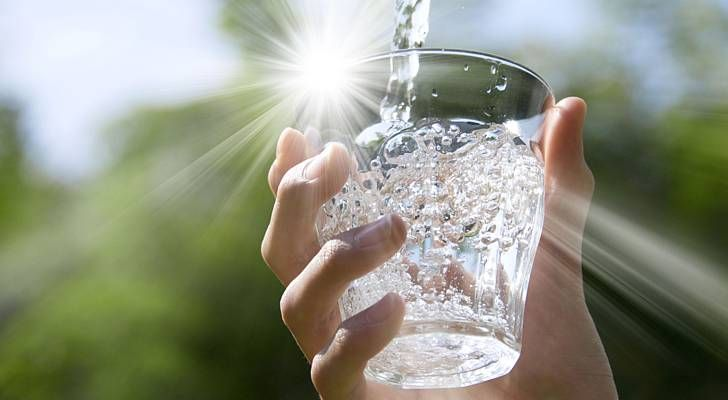glass of water: (284, 54, 561, 377)
